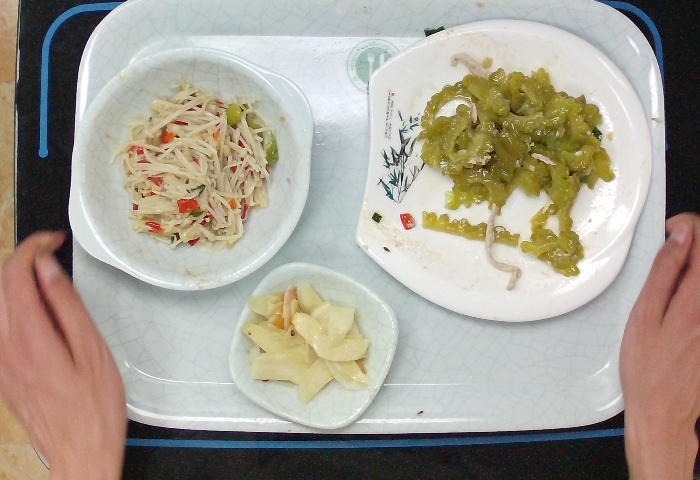JYsf-Mian_Pan: (353, 19, 657, 321)
JYsf-Shuang_Er_Wan: (67, 48, 314, 295)
JYsf-Si_Fang_Die: (224, 262, 401, 434)
